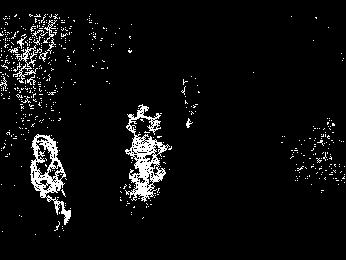person: (26, 133, 73, 234)
